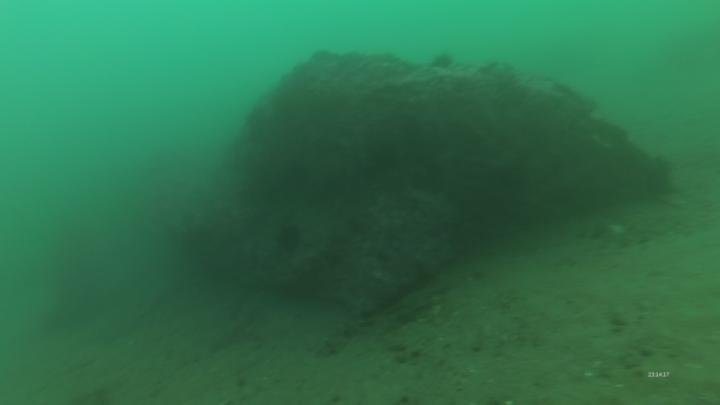echinus: (273, 221, 306, 256), (428, 49, 456, 72)
